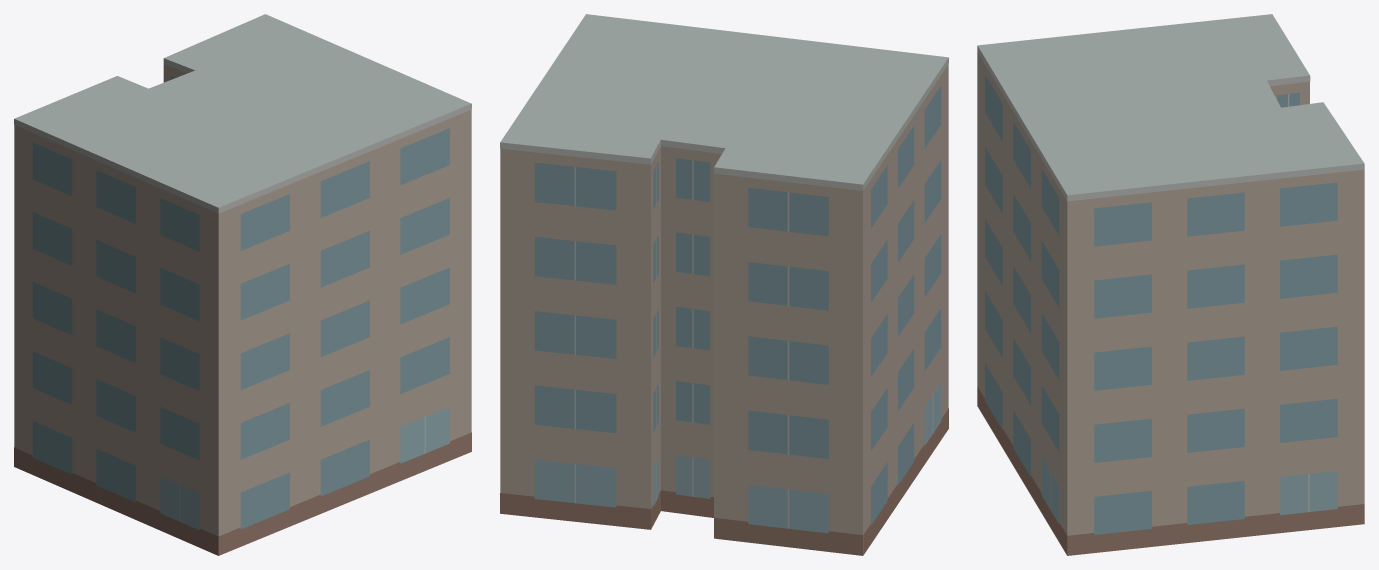
File: survey-upis-32597646.glb
3 views of the same model, side by side, from view 1: azimuth 30°, elevation 25°; view 2: azimuth 150°, elevation 25°; view 3: azimuth 270°, elevation 25° (orthographic). The views are drawn at different scales.
Visible parts, largest first — view 1: survey-upis-32597646.tmp; view 2: survey-upis-32597646.tmp; view 3: survey-upis-32597646.tmp.
Boxes of the visible parts, <box> form: survey-upis-32597646.tmp: <box>14,14,471,555</box>; survey-upis-32597646.tmp: <box>500,14,948,555</box>; survey-upis-32597646.tmp: <box>977,14,1364,555</box>.
Size of the model in its own units: 15.54 by 14.4 by 14.02.
